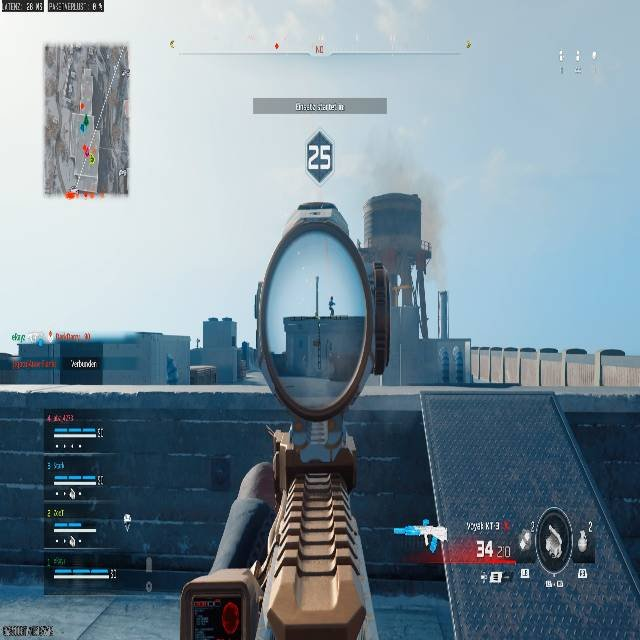player: (328, 295, 335, 317)
